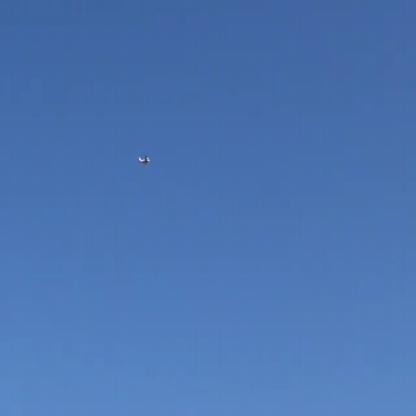CIV_Plane: (138, 155, 150, 163)
